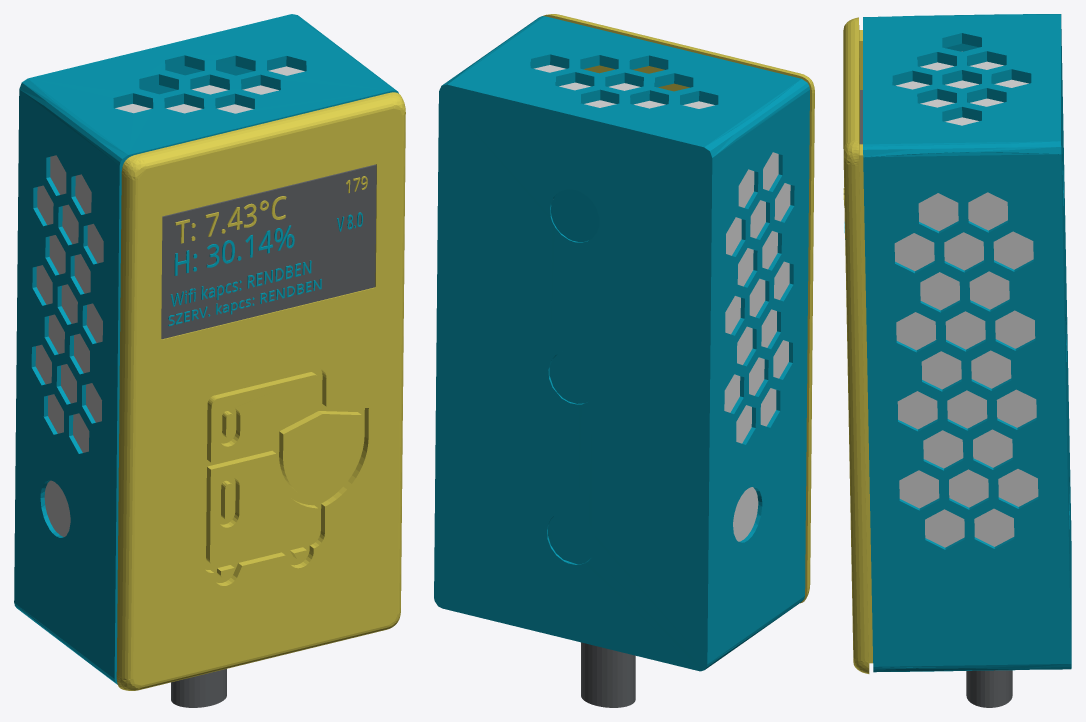
The model's file is kek_sarga.glb.
3 renders of one model, left to right at view 1: azimuth 30°, elevation 25°; view 2: azimuth 150°, elevation 25°; view 3: azimuth 270°, elevation 25°, orthographic. The views are drawn at different scales.
Parts seen in each view (by area): view 1: Mesh_Mesh_head_geo.001_lambert2SG.001; view 2: Mesh_Mesh_head_geo.001_lambert2SG.001; view 3: Mesh_Mesh_head_geo.001_lambert2SG.001.
Part boxes in pixels (<box>): Mesh_Mesh_head_geo.001_lambert2SG.001: <box>14,14,405,707</box>; Mesh_Mesh_head_geo.001_lambert2SG.001: <box>434,14,814,707</box>; Mesh_Mesh_head_geo.001_lambert2SG.001: <box>843,14,1071,707</box>.
Size of the model in its own units: 33 by 70.15 by 23.52.
